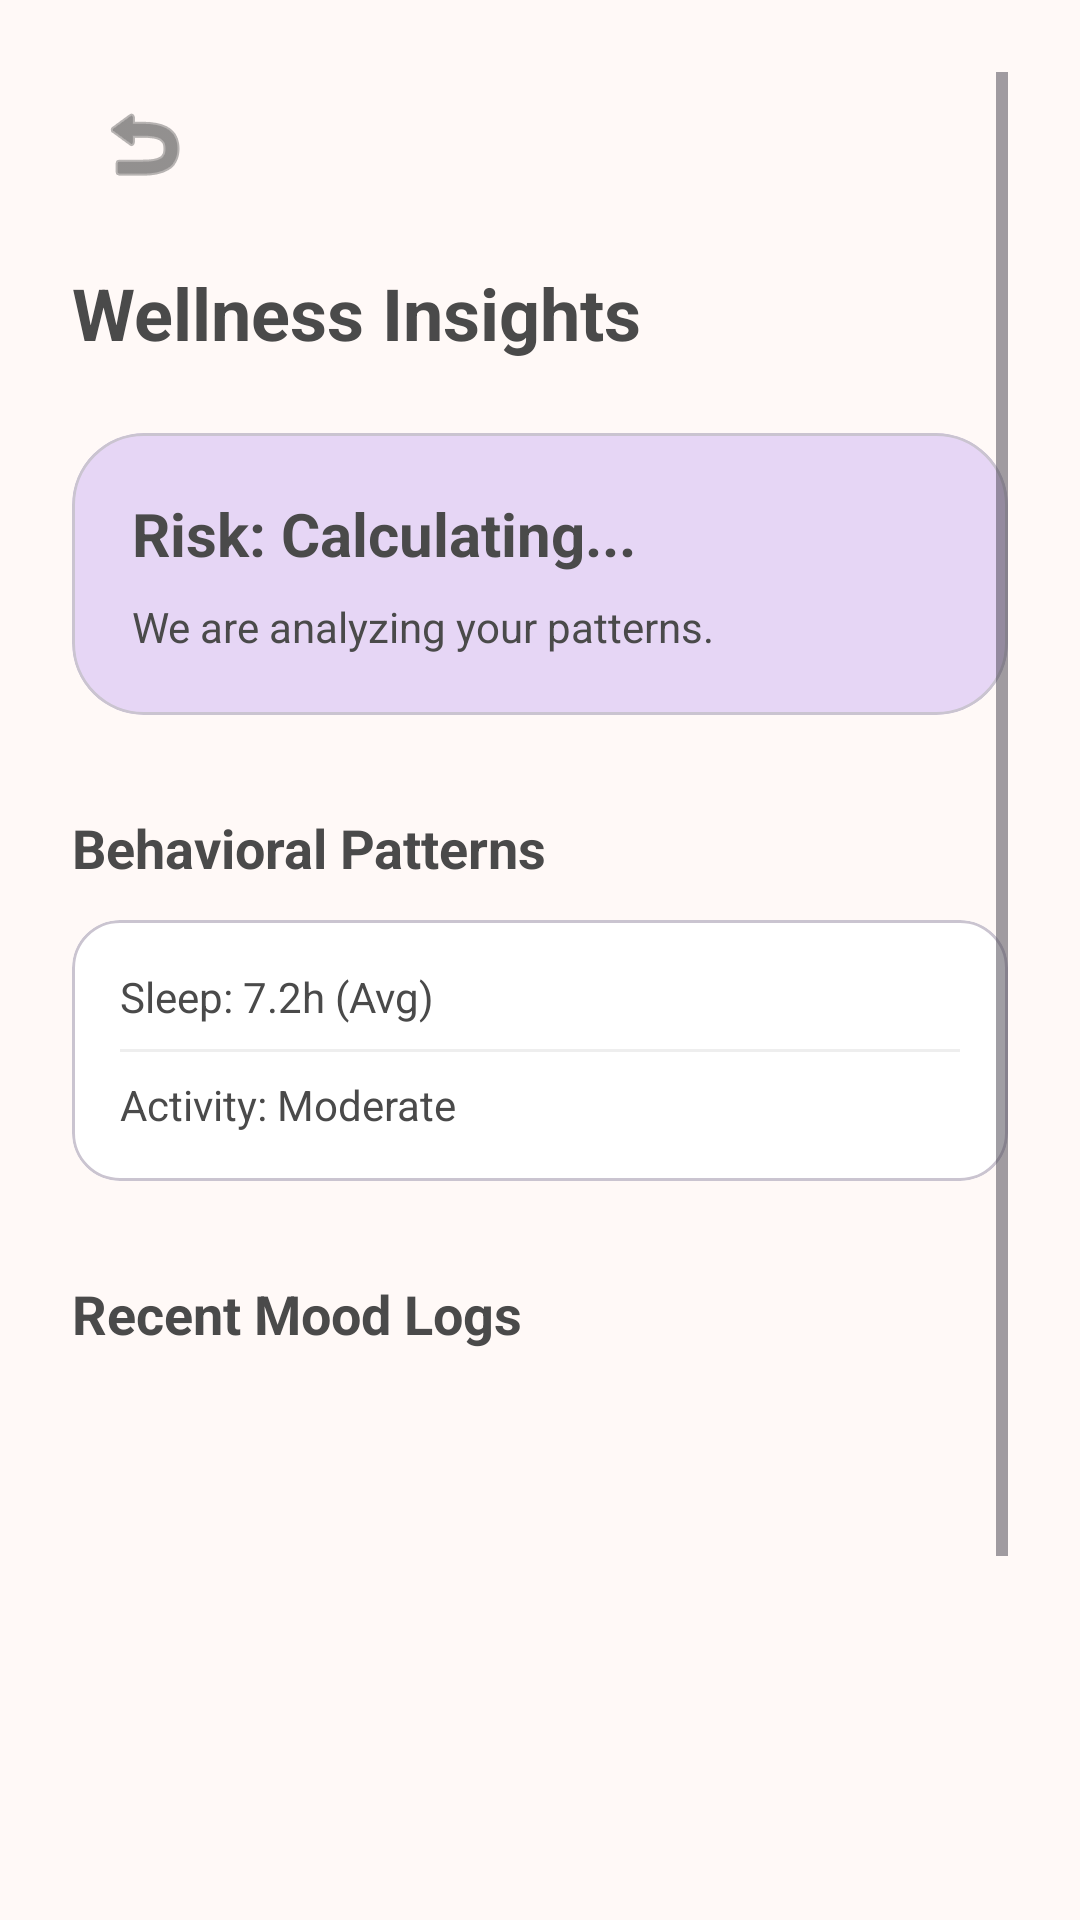

Point at icon controls on the screen. Image size 1080×1920, points as point (x, y).
Back: point (145, 144)
